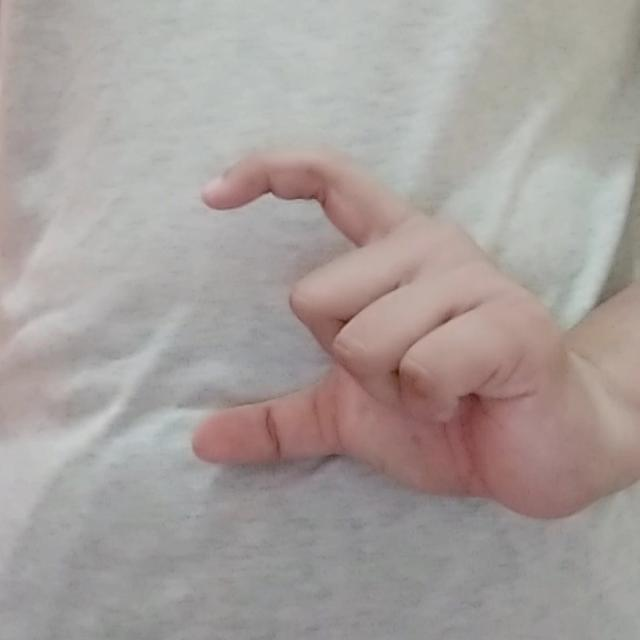C: (169, 139, 596, 526)
